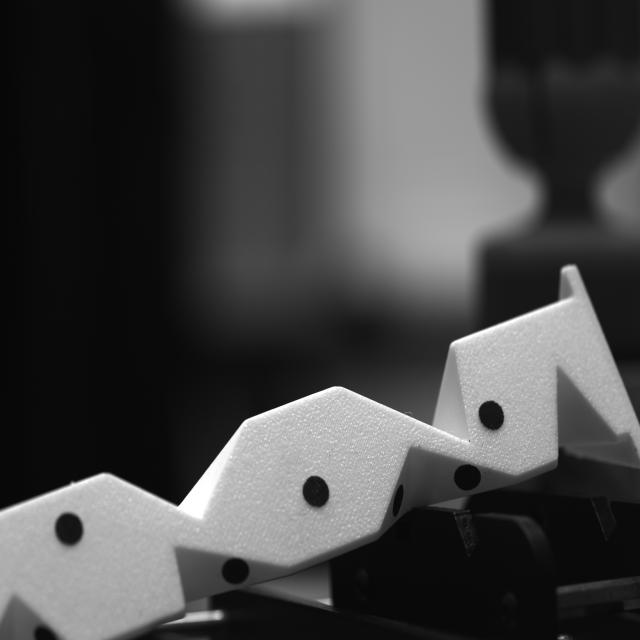circle point: (56, 514, 83, 546), (304, 476, 330, 508), (479, 400, 504, 430), (454, 465, 482, 491), (221, 559, 249, 585), (392, 484, 404, 518)
